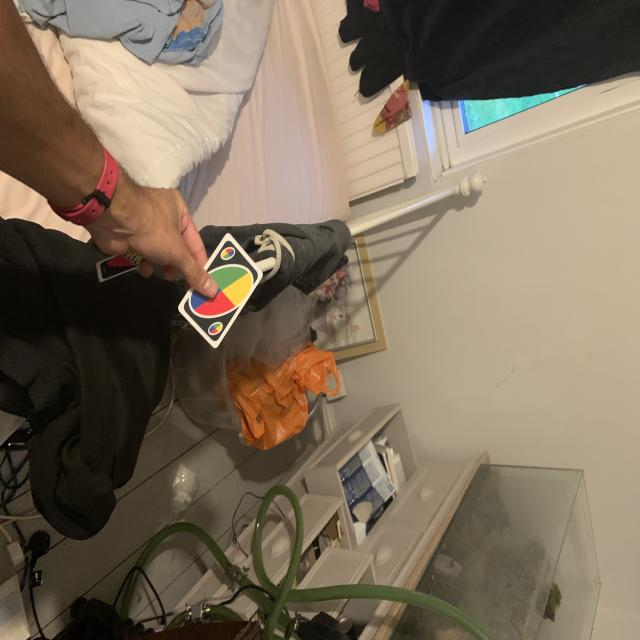lcolor-40: (220, 245, 236, 263)
